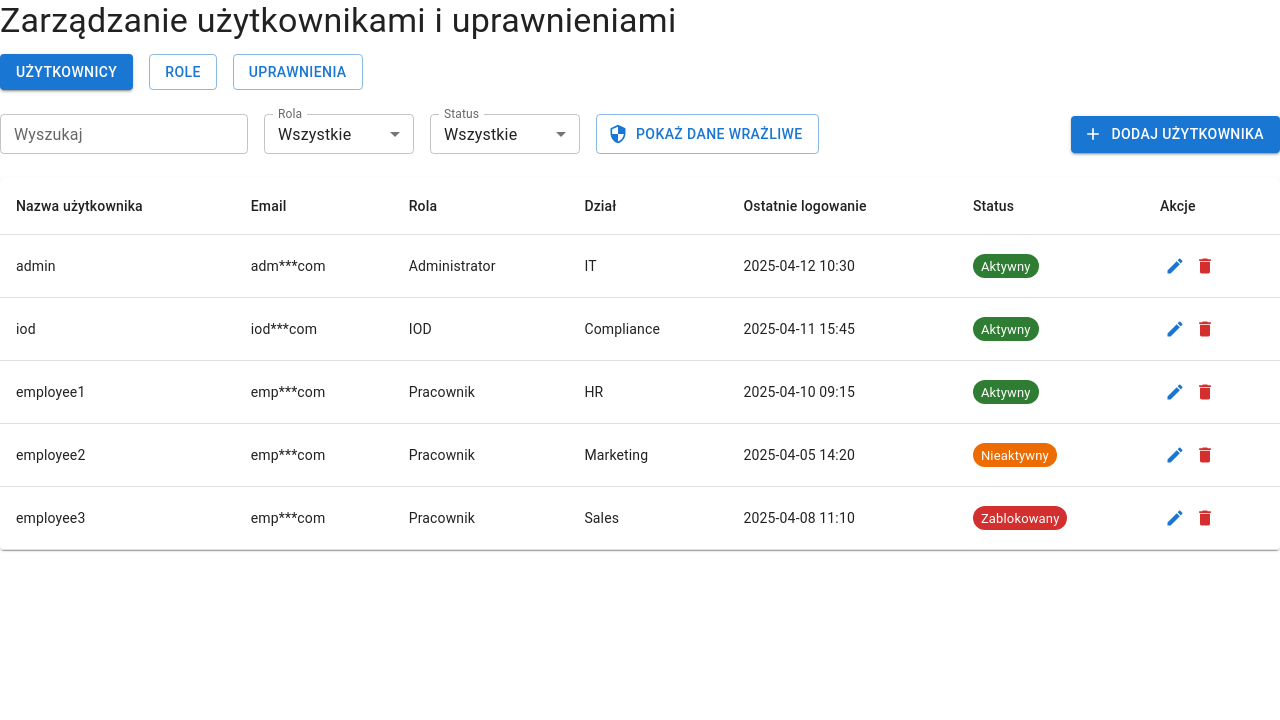
Scenario: UserManagementPage Component › opens add role dialog
The width and height of the screenshot is (1280, 720).
# Przejście do zakładki "Role"
Step 1. Click the button "Role" → (183, 72), box [149, 54, 217, 90]
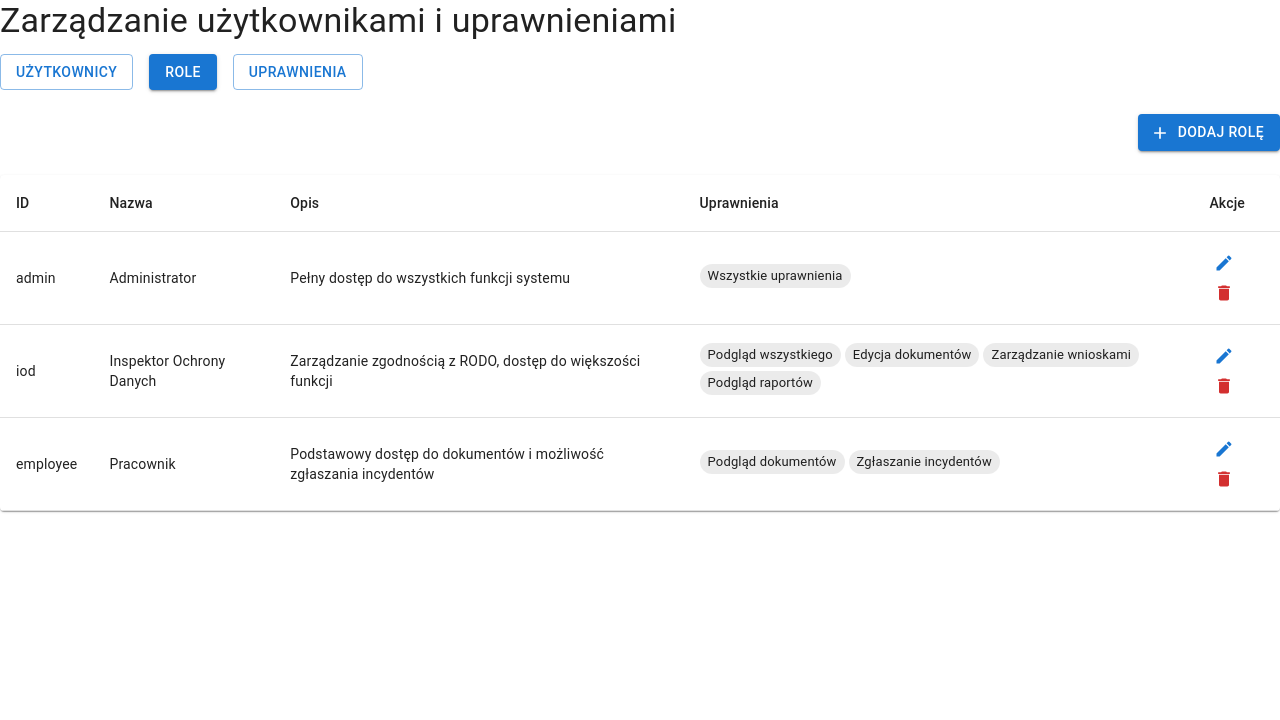
# Kliknięcie przycisku dodawania roli
Step 2. Click the button "Dodaj rolę" → (1209, 133), box [1138, 114, 1279, 151]
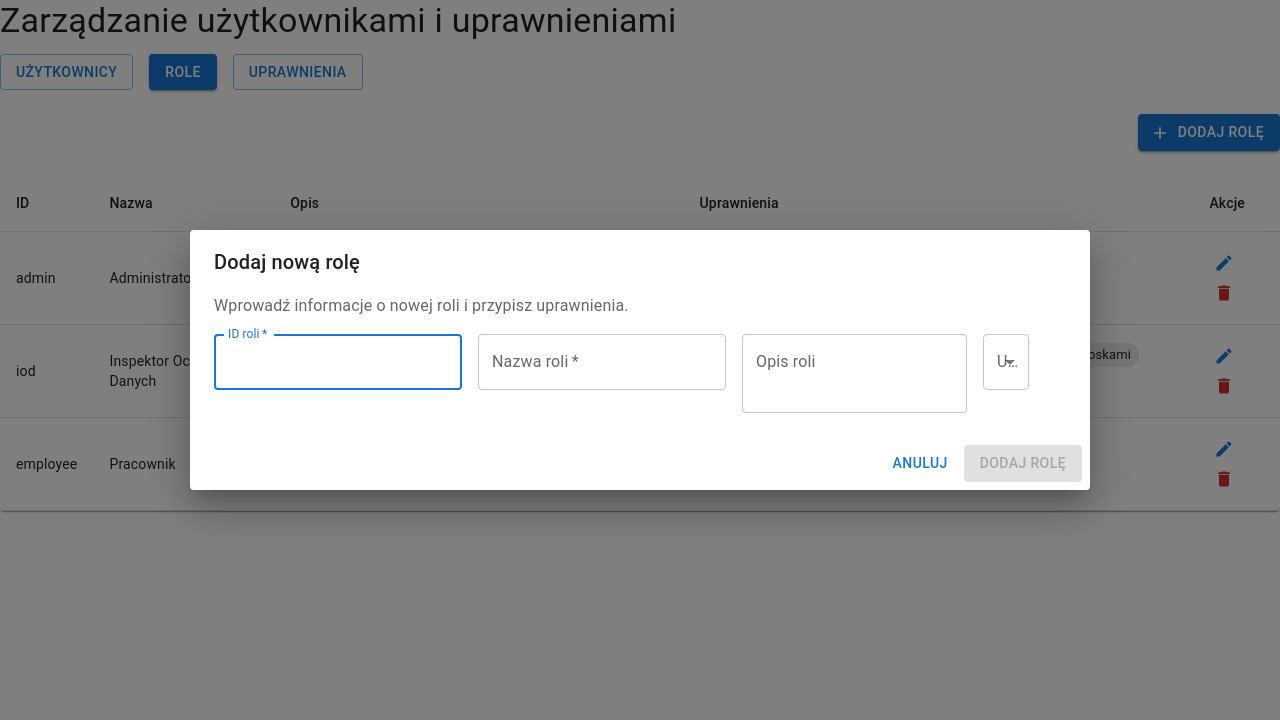
Now the heading "Dodaj nową rolę" is shown, box [214, 250, 360, 274]
Now the field labelled "ID roli *" is shown, box [214, 334, 462, 390]
Now the field labelled "Nazwa roli *" is shown, box [478, 334, 726, 390]
